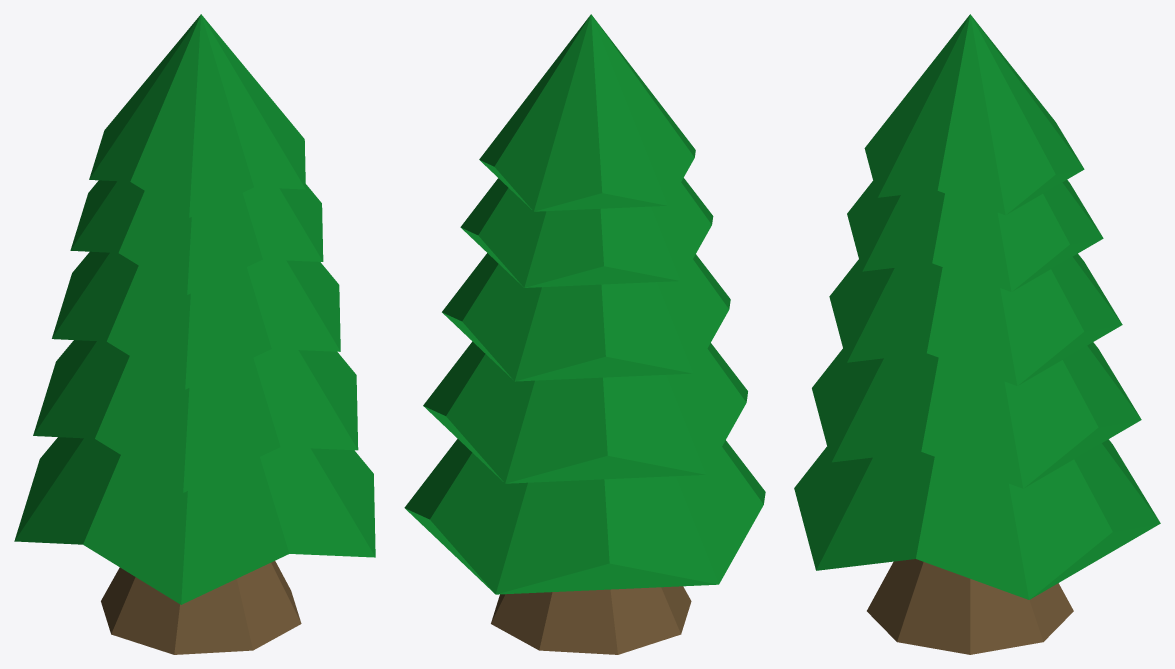
Rendered from PineTree_2.fbx.
3 views of the same model, side by side, from view 1: azimuth 30°, elevation 25°; view 2: azimuth 150°, elevation 25°; view 3: azimuth 270°, elevation 25° (orthographic).
Visible parts, largest first — view 1: Cone.001, Cone.002, Cone.003, Cone.004, Cone, Cylinder; view 2: Cone.001, Cone.002, Cone.004, Cone.003, Cone, Cylinder; view 3: Cone.001, Cone.002, Cone.003, Cone.004, Cone, Cylinder.
Boxes of the visible parts, <box> form: Cone.001: <box>14,437,375,604</box>; Cone.002: <box>33,340,358,492</box>; Cone.003: <box>52,251,340,389</box>; Cone.004: <box>89,14,305,217</box>; Cone: <box>70,180,323,294</box>; Cylinder: <box>101,561,301,654</box>; Cone.001: <box>404,438,765,594</box>; Cone.002: <box>423,341,747,483</box>; Cone.004: <box>479,14,695,211</box>; Cone.003: <box>442,253,730,381</box>; Cone: <box>460,178,713,287</box>; Cylinder: <box>491,586,691,654</box>; Cone.001: <box>794,439,1160,599</box>; Cone.002: <box>812,342,1141,488</box>; Cone.003: <box>829,253,1122,385</box>; Cone.004: <box>864,14,1084,215</box>; Cone: <box>847,180,1103,291</box>; Cylinder: <box>867,559,1073,654</box>.
Size of the model in its own units: 190 by 346 by 192.
